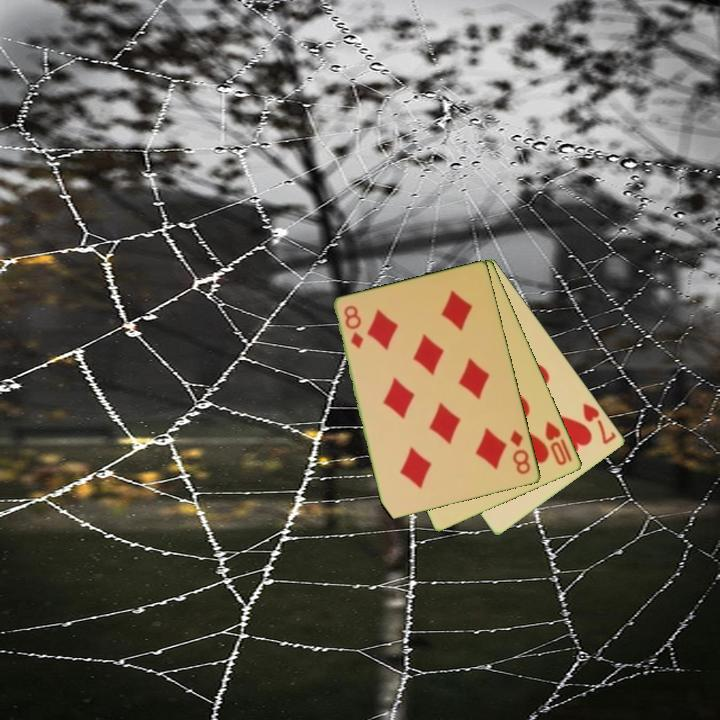10h: (542, 418, 570, 469)
7h: (579, 400, 620, 447)
8d: (507, 427, 534, 477), (341, 302, 367, 351)
